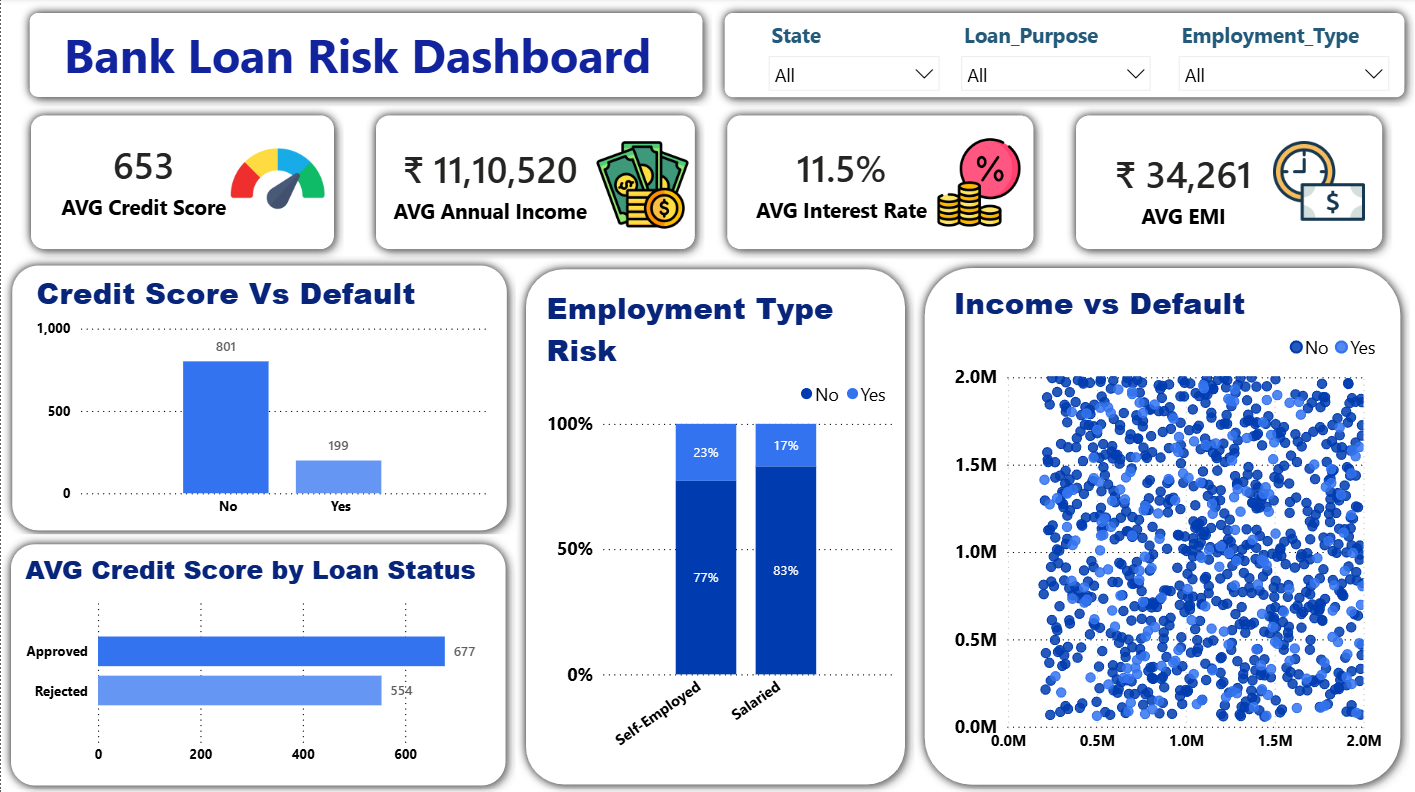

What the dashboard file says about the page in this screenshot:
{"tool":"powerbi","page":{"name":"Risk Analysis","canvas":[1280,720],"ordinal":1},"visuals":[{"type":"shape","box":[17.2,4.8,626.6,94],"z":0,"group":"g5"},{"type":"shape","box":[645.8,4.8,632.9,94.3],"z":0,"group":"g7"},{"type":"group","id":"g1","title":"Group 1","box":[18.6,96.9,292.1,138.9],"z":0},{"type":"shape","box":[18.6,96.9,292.1,138.9],"z":0,"group":"g1"},{"type":"shape","box":[330.5,96.9,306.5,138.9],"z":0,"group":"g2"},{"type":"shape","box":[647.7,96.9,295.1,138.9],"z":0,"group":"g3"},{"type":"shape","box":[963.8,96.9,295.1,138.9],"z":0,"group":"g4"},{"type":"shape","box":[1.4,233.4,465.4,257.8],"z":0,"group":"g6"},{"type":"shape","box":[826.3,234.9,448.3,485.5],"z":0,"group":"g9"},{"type":"shape","box":[465.4,236.3,360.9,484],"z":0,"group":"g8"},{"type":"shape","box":[0,484.6,465.4,236.3],"z":0,"group":"g10"},{"type":"group","id":"g2","title":"Group 1","box":[330.5,96.9,306.5,138.9],"z":1000},{"type":"card","fields":{"Values":["Loan_data.Average Credit Score"]},"box":[36.7,113.5,186.3,93.1],"z":1000,"group":"g1"},{"type":"card","fields":{"Values":["Loan_data.Average Loan Amount"]},"box":[344.4,116.6,197.9,96],"z":1000,"group":"g2"},{"type":"card","fields":{"Values":["Loan_data.AVG Interest Rate"]},"box":[666.1,116.6,189,94.5],"z":1000,"group":"g3"},{"type":"card","fields":{"Values":["Loan_data.AVG EMI"]},"box":[978.4,120.9,183.3,96],"z":1000,"group":"g4"},{"type":"clusteredColumnChart","title":"Credit Score Vs Default","fields":{"Category":["Loan_data.Default_Status"],"Y":["CountNonNull(Loan_data.Credit_Score)"]},"box":[27.2,247.7,418.2,230.6],"z":1000,"group":"g6"},{"type":"scatterChart","title":"Income vs Default","fields":{"Series":["Loan_data.Default_Status"],"Y":["Sum(Loan_data.Loan_Amount)"],"X":["Loan_data.Annual_Income"]},"box":[857.3,256.8,396.5,434.7],"z":1000,"group":"g9"},{"type":"hundredPercentStackedColumnChart","title":"Employment Type Risk","fields":{"Category":["Loan_data.Employment_Type"],"Y":["Loan_data.Count of cust_id"],"Series":["Loan_data.Default_Status"]},"box":[487.7,261.7,322.2,436.8],"z":1000,"group":"g8"},{"type":"barChart","title":"AVG Credit Score by Loan Status","fields":{"Y":["Loan_data.AVG Credit Score"],"Category":["Loan_data.Loan_Status"]},"box":[17.1,500.9,428.7,201.5],"z":1000,"group":"g10"},{"type":"group","id":"g3","title":"Group 1","box":[647.7,96.9,295.1,138.9],"z":2000},{"type":"image","box":[205.3,120.9,91.7,84.5],"z":2000,"group":"g1"},{"type":"image","box":[1140.2,120.9,104.5,88.8],"z":2000,"group":"g4"},{"type":"image","box":[844.3,123.7,80.2,84.5],"z":2000,"group":"g3"},{"type":"image","box":[537.8,126.6,86.3,84.5],"z":2000,"group":"g2"},{"type":"group","id":"g4","title":"Group 1","box":[963.8,96.9,295.1,138.9],"z":3000},{"type":"group","id":"g5","title":"Group 1","box":[17.2,4.8,625.7,94.3],"z":4000},{"type":"group","id":"g6","title":"Group 1","box":[1.4,233.4,465.4,257.8],"z":5000},{"type":"group","id":"g7","title":"Group 1","box":[645.8,4.8,632.9,94.3],"z":6000},{"type":"group","id":"g8","title":"Group 1","box":[465.4,236.3,360.9,484],"z":7000},{"type":"group","id":"g9","title":"Group 1","box":[826.3,234.9,448.2,485.5],"z":8000},{"type":"group","id":"g10","title":"Group 1","box":[0,484.6,465.4,236.3],"z":9000},{"type":"textbox","box":[52.1,17.6,573.9,68.4],"z":9003,"group":"g5"},{"type":"slicer","fields":{"Values":["Loan_data.State"]},"box":[684.5,15.8,174.7,68.7],"z":10000},{"type":"slicer","fields":{"Values":["Loan_data.Loan_Purpose"]},"box":[857.8,15.8,191.9,68.7],"z":11000},{"type":"slicer","fields":{"Values":["Loan_data.Employment_Type"]},"box":[1055.5,15.8,210.5,68.7],"z":12000}]}

Visuals, with their boxes in screenshot pixels (x1, y1, x2, y2), scaled from the page's 1280x720 canvas onto the 1415x792 screenshot:
shape: (left=19, top=5, right=712, bottom=109)
shape: (left=714, top=5, right=1414, bottom=109)
"Group 1" group: (left=21, top=107, right=343, bottom=259)
shape: (left=21, top=107, right=343, bottom=259)
shape: (left=365, top=107, right=704, bottom=259)
shape: (left=716, top=107, right=1042, bottom=259)
shape: (left=1065, top=107, right=1392, bottom=259)
shape: (left=2, top=257, right=516, bottom=540)
shape: (left=913, top=258, right=1409, bottom=791)
shape: (left=514, top=260, right=913, bottom=791)
shape: (left=0, top=533, right=514, bottom=791)
"Group 1" group: (left=365, top=107, right=704, bottom=259)
card - Loan_data.Average Credit Score: (left=41, top=125, right=247, bottom=227)
card - Loan_data.Average Loan Amount: (left=381, top=128, right=599, bottom=234)
card - Loan_data.AVG Interest Rate: (left=736, top=128, right=945, bottom=232)
card - Loan_data.AVG EMI: (left=1082, top=133, right=1284, bottom=239)
"Credit Score Vs Default" clusteredColumnChart: (left=30, top=272, right=492, bottom=526)
"Income vs Default" scatterChart: (left=948, top=282, right=1386, bottom=761)
"Employment Type Risk" hundredPercentStackedColumnChart: (left=539, top=288, right=895, bottom=768)
"AVG Credit Score by Loan Status" barChart: (left=19, top=551, right=493, bottom=773)
"Group 1" group: (left=716, top=107, right=1042, bottom=259)
image: (left=227, top=133, right=328, bottom=226)
image: (left=1260, top=133, right=1376, bottom=231)
image: (left=933, top=136, right=1022, bottom=229)
image: (left=595, top=139, right=690, bottom=232)
"Group 1" group: (left=1065, top=107, right=1392, bottom=259)
"Group 1" group: (left=19, top=5, right=711, bottom=109)
"Group 1" group: (left=2, top=257, right=516, bottom=540)
"Group 1" group: (left=714, top=5, right=1414, bottom=109)
"Group 1" group: (left=514, top=260, right=913, bottom=791)
"Group 1" group: (left=913, top=258, right=1409, bottom=791)
"Group 1" group: (left=0, top=533, right=514, bottom=791)
textbox: (left=58, top=19, right=692, bottom=95)
slicer - Loan_data.State: (left=757, top=17, right=950, bottom=93)
slicer - Loan_data.Loan_Purpose: (left=948, top=17, right=1160, bottom=93)
slicer - Loan_data.Employment_Type: (left=1167, top=17, right=1400, bottom=93)
